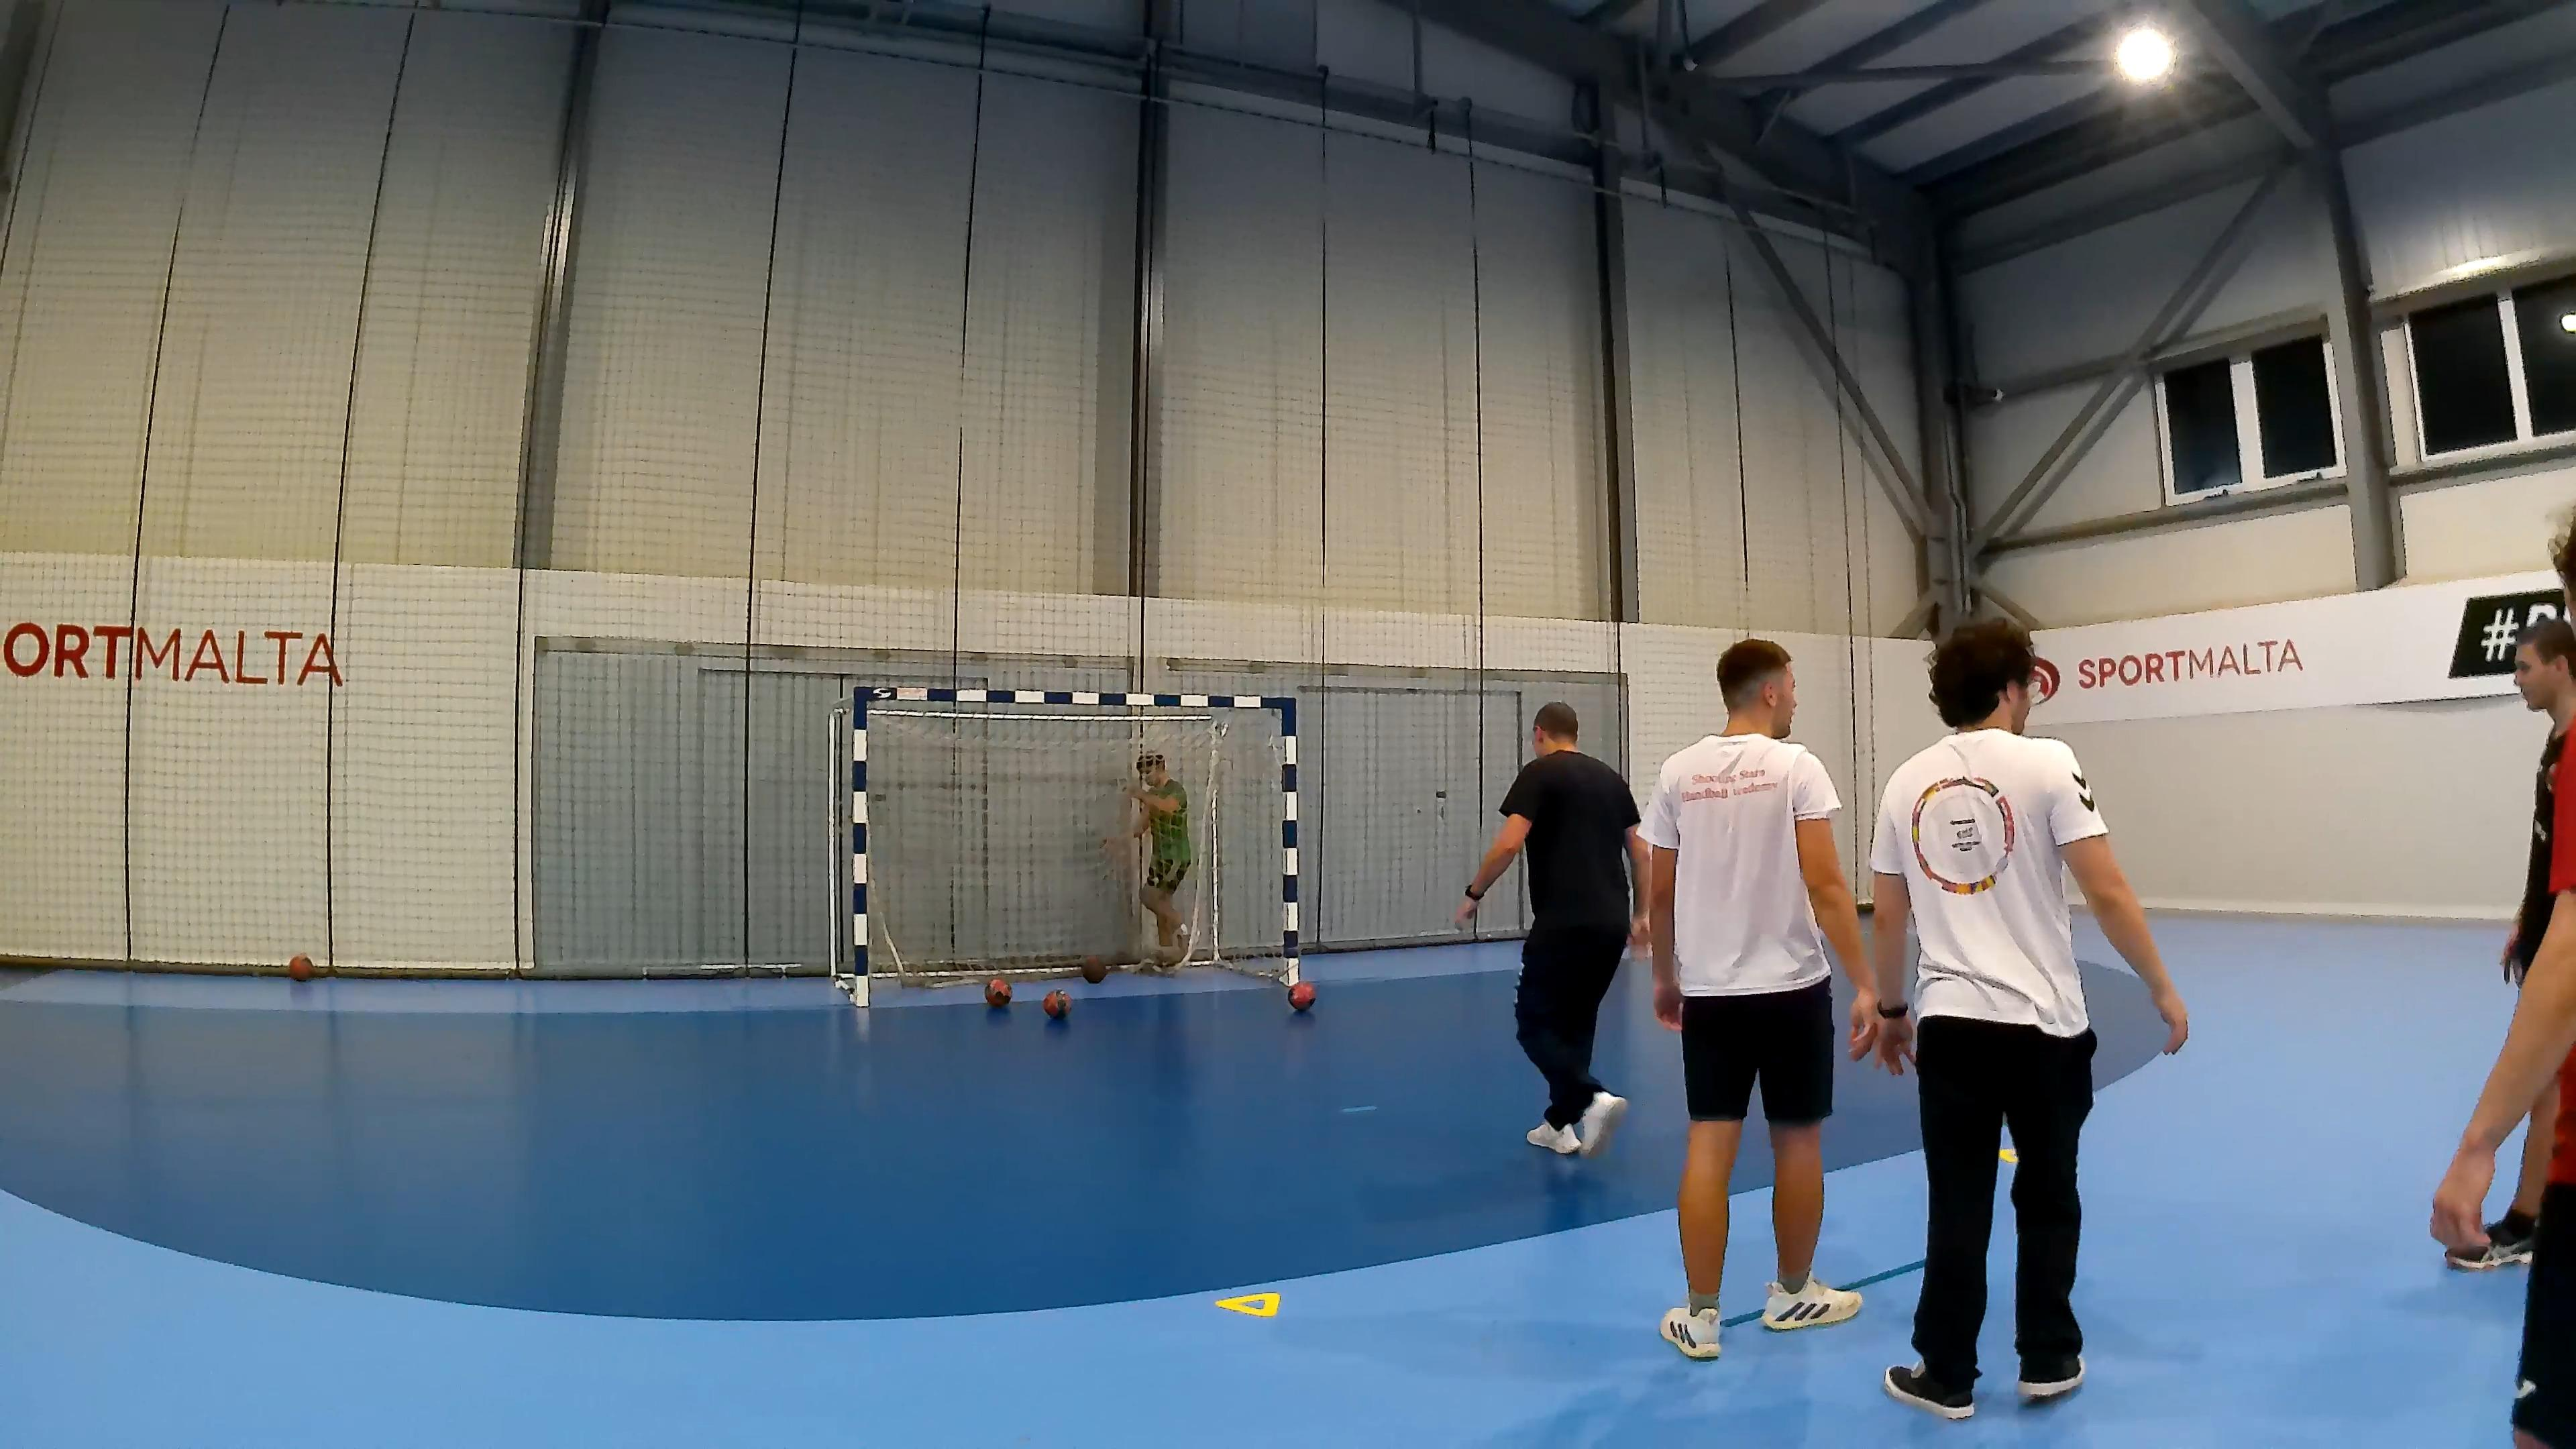handball: (1040, 987, 1070, 1019), (1288, 980, 1315, 1010), (984, 977, 1010, 1007), (1079, 955, 1108, 982), (287, 952, 313, 980)
